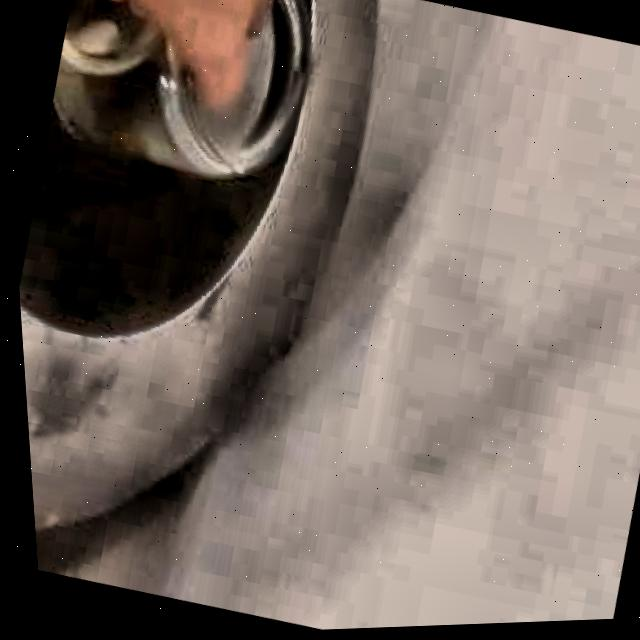glass: (50, 0, 309, 178)
